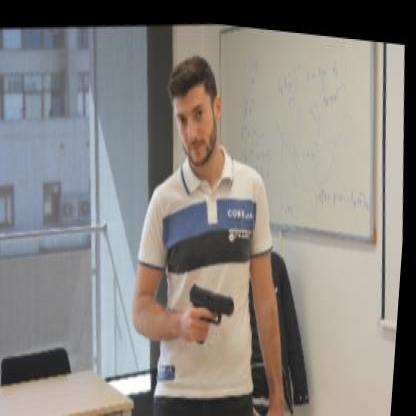pistol: (190, 267, 240, 338)
